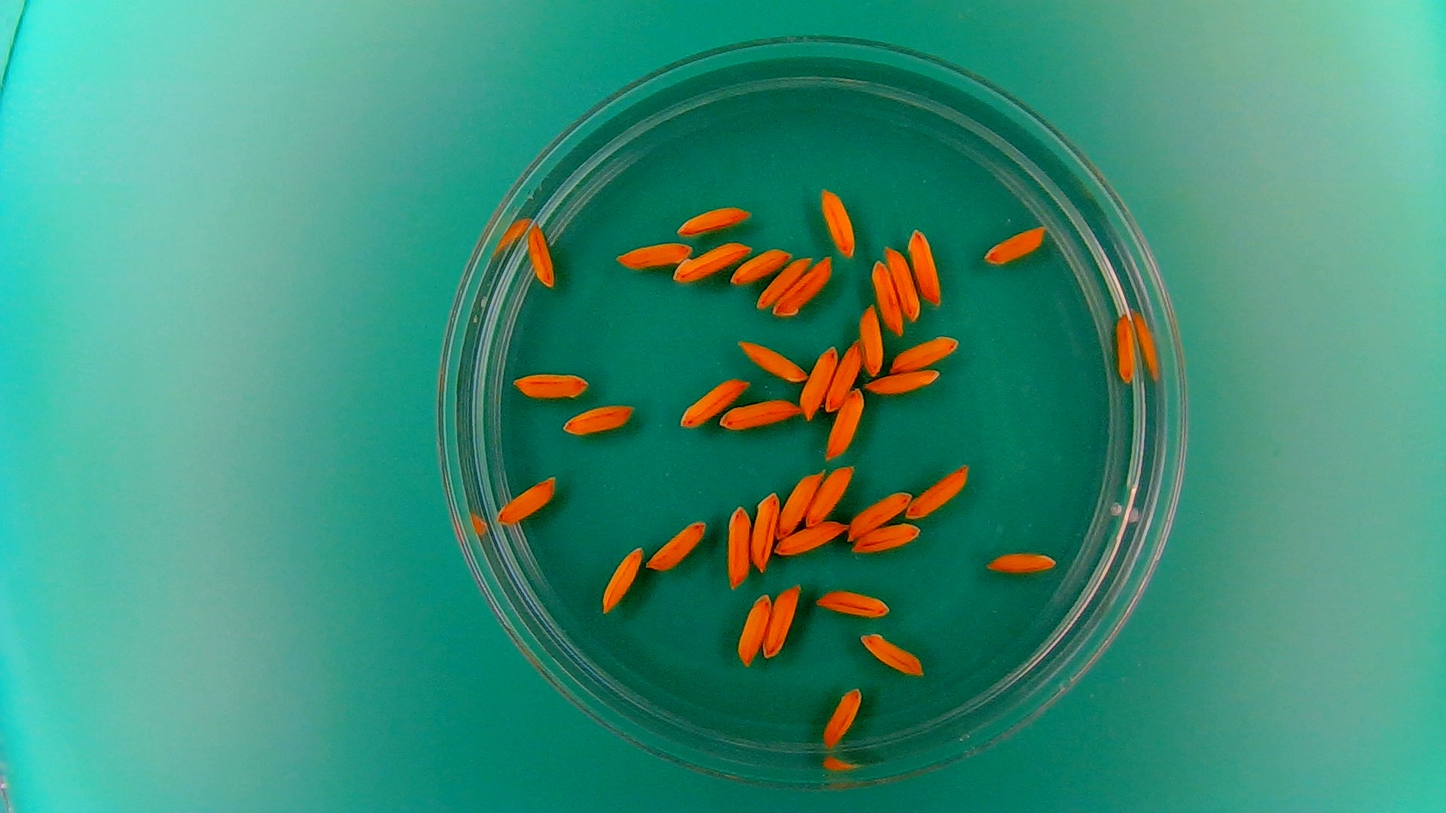no: (770, 255, 837, 323), (905, 462, 973, 521), (677, 375, 750, 429), (845, 486, 914, 541), (493, 471, 558, 529), (670, 239, 753, 282), (645, 516, 708, 572), (776, 467, 823, 539), (857, 629, 926, 678), (804, 462, 856, 527), (736, 337, 809, 383), (760, 581, 803, 659), (599, 543, 645, 615), (798, 342, 839, 422), (757, 253, 813, 310), (824, 385, 865, 461), (887, 332, 961, 374), (734, 589, 773, 667), (718, 395, 802, 431), (817, 184, 858, 257), (907, 227, 944, 307), (825, 338, 863, 415), (885, 247, 922, 325), (774, 518, 848, 557), (983, 224, 1048, 268), (560, 400, 636, 437), (749, 489, 782, 574), (820, 684, 863, 749), (868, 259, 904, 335), (813, 586, 892, 620), (614, 239, 693, 272), (676, 202, 752, 236), (511, 368, 590, 400), (723, 501, 752, 587), (730, 246, 793, 285), (523, 219, 557, 291), (852, 520, 923, 553), (865, 366, 941, 396), (984, 547, 1060, 577), (1113, 310, 1139, 385), (859, 303, 885, 378)
